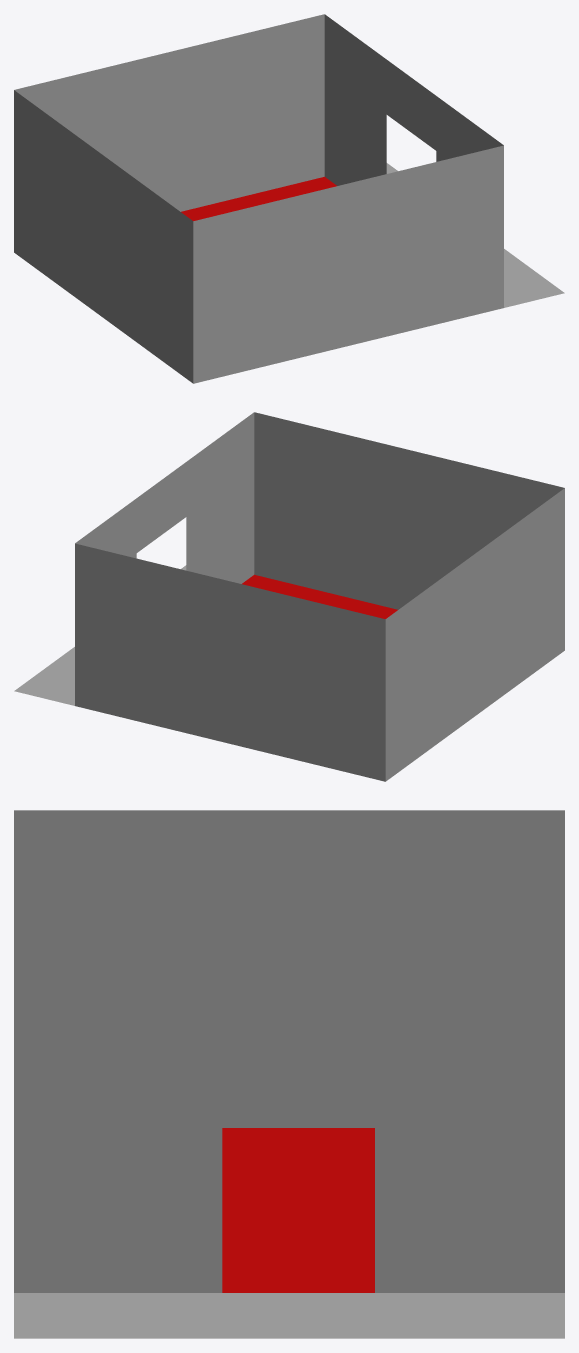
Rendered from Smoothie_Room_Improved.fbx.
The picture shows the model from 3 angles, top to bottom: view 1: azimuth 30°, elevation 25°; view 2: azimuth 150°, elevation 25°; view 3: azimuth 270°, elevation 25°; orthographic projection. The views are drawn at different scales.
Parts seen in each view (by area): view 1: Room_Low; view 2: Room_Low; view 3: Room_Low.
Part boxes in pixels (x1,y1,x2,y2): Room_Low: [14, 14, 564, 383]; Room_Low: [14, 412, 564, 781]; Room_Low: [14, 810, 564, 1338].
Size of the model in its own units: 42.74 by 17.87 by 35.74.
